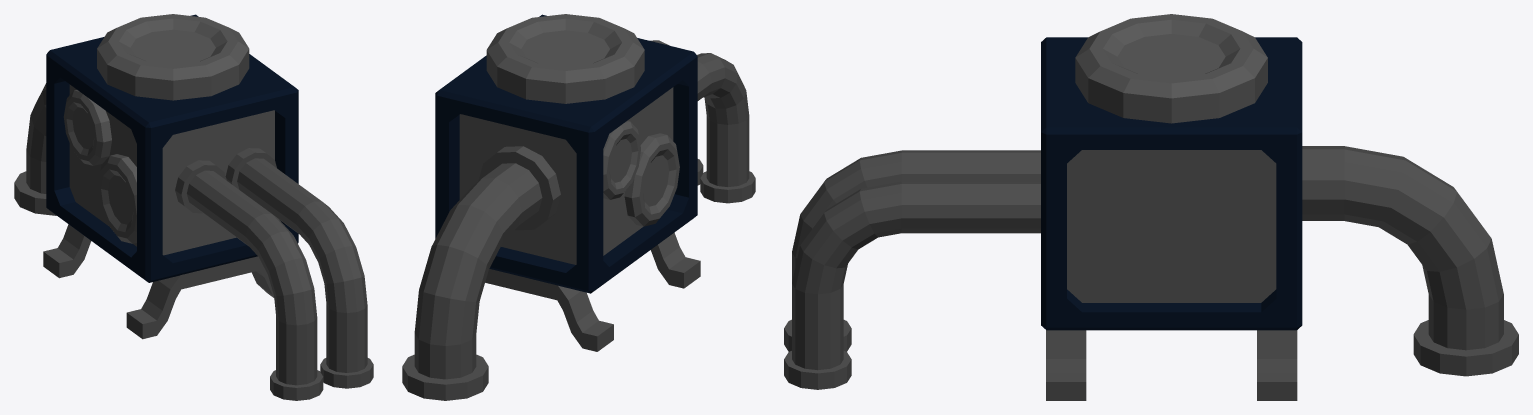
Rendered from Cooler.fbx.
The picture shows the model from 3 angles, left to right: view 1: azimuth 30°, elevation 25°; view 2: azimuth 150°, elevation 25°; view 3: azimuth 270°, elevation 25°; orthographic projection. The views are drawn at different scales.
Parts seen in each view (by area): view 1: Cube; view 2: Cube; view 3: Cube.
Boxes of the visible parts, x1,y1,x2,y2 form: Cube: (14, 14, 373, 400); Cube: (402, 14, 755, 400); Cube: (784, 14, 1518, 400).
Bounding box in the file's own units: 107 × 159 × 346.
